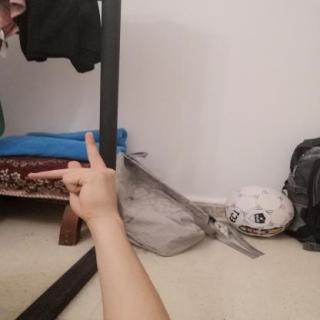DHAA: (20, 126, 126, 227)
